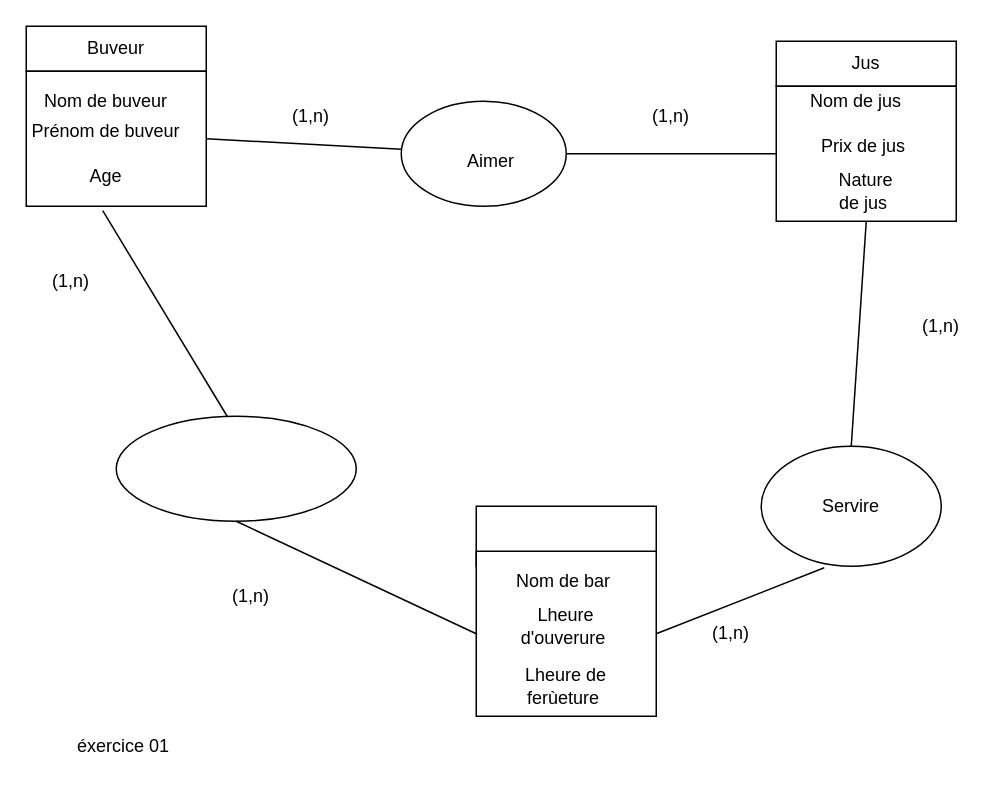
Some shapes in this 998 by 788 pixel diagram are drawn without their labels. Each missing label, with the centre of its shape:
"Bar" belongs at point (565, 535).
"Fréquentation" belongs at point (235, 468).
